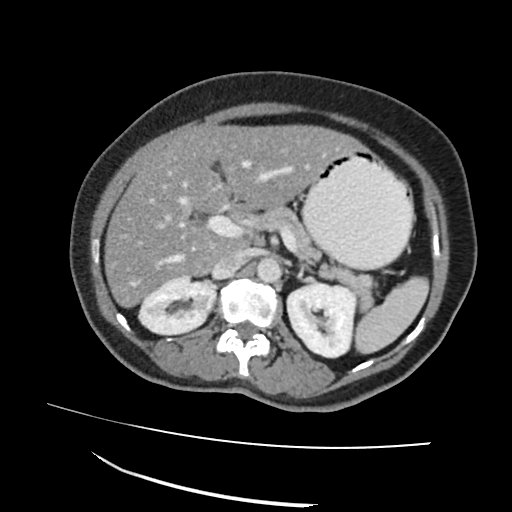aorta: (254, 255, 282, 283)
